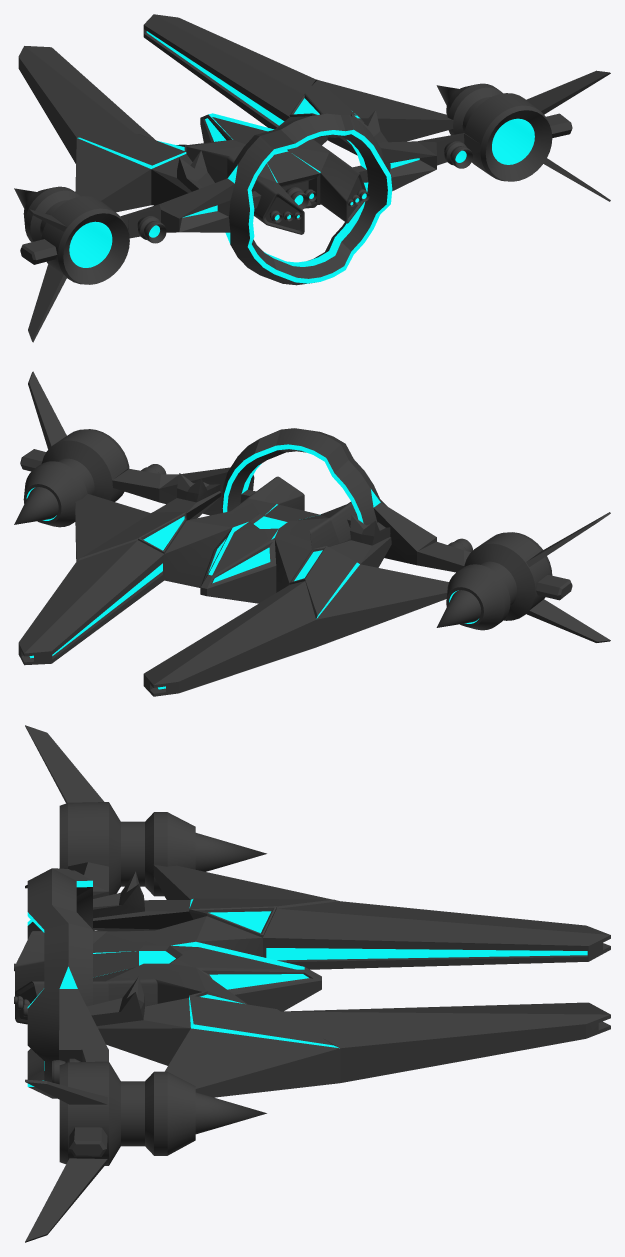
Rendered from SpaceShip_3.fbx.
The picture shows the model from 3 angles, top to bottom: view 1: azimuth 30°, elevation 25°; view 2: azimuth 150°, elevation 25°; view 3: azimuth 270°, elevation 25°; orthographic projection. The views are drawn at different scales.
Parts seen in each view (by area): view 1: Ship_V3; view 2: Ship_V3; view 3: Ship_V3.
Boxes of the visible parts, x1=… form: Ship_V3: x1=14, y1=14, x2=610, y2=342; Ship_V3: x1=14, y1=371, x2=610, y2=696; Ship_V3: x1=14, y1=725, x2=610, y2=1242.
Size of the model in its own units: 4833 by 1335 by 3428.
